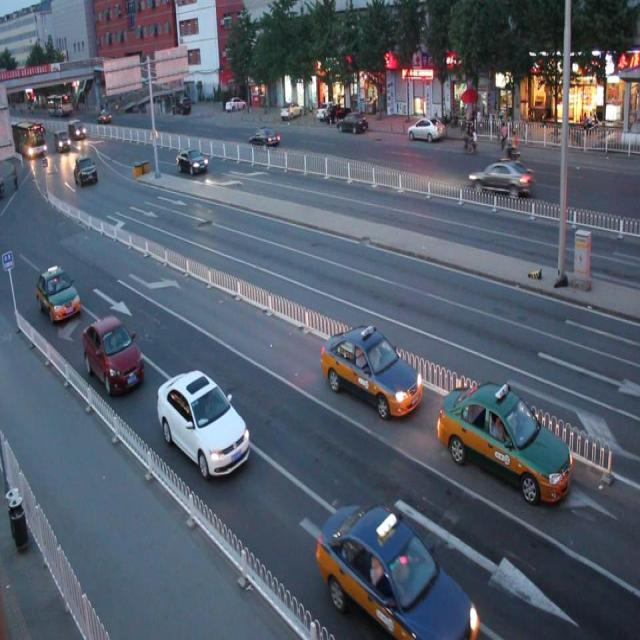car: (315, 501, 478, 640), (437, 377, 571, 502), (155, 367, 250, 477), (320, 325, 424, 416), (82, 314, 145, 389), (37, 264, 81, 322), (468, 161, 532, 197), (176, 144, 210, 176), (250, 126, 281, 149)
